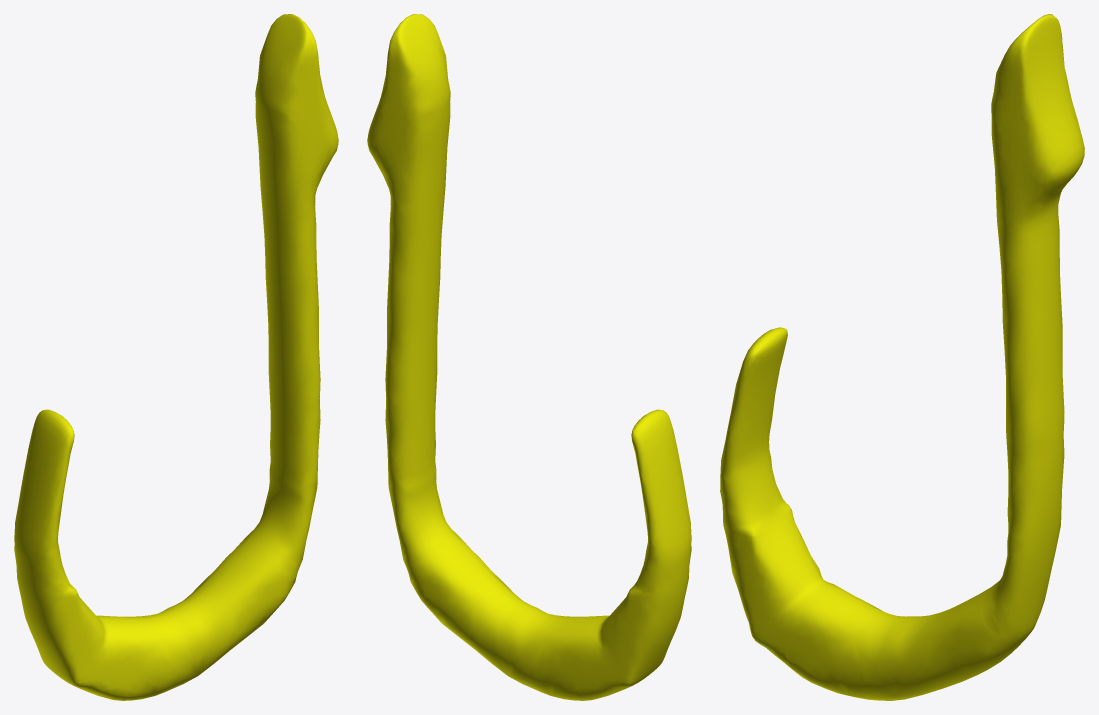
3 views of the same model, side by side, from view 1: azimuth 30°, elevation 25°; view 2: azimuth 150°, elevation 25°; view 3: azimuth 330°, elevation 25° (orthographic). The views are drawn at different scales.
Visible parts, largest first — view 1: char_1; view 2: char_1; view 3: char_1.
Part boxes in pixels (box(x1,y1,x2,y2)): char_1: box(14, 14, 338, 700); char_1: box(367, 14, 691, 700); char_1: box(720, 14, 1084, 700).
Size of the model in its own units: 5.11 by 10.12 by 1.
